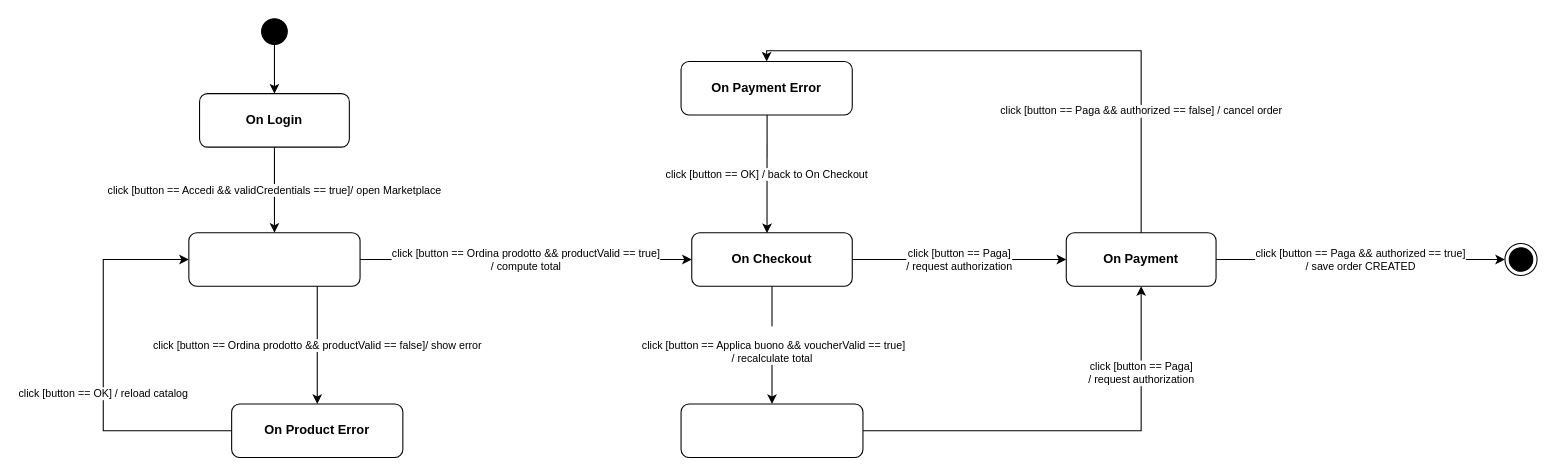
Some shapes in this 1556 by 476 pixel diagram are drawn without their labels. The shapes that lost their labels are listed below. From the top down, each one's centre as x and y in pixels, then its label:
At (x=274, y=259): "On Marketplace".
At (x=771, y=430): "On Voucher Applied".
